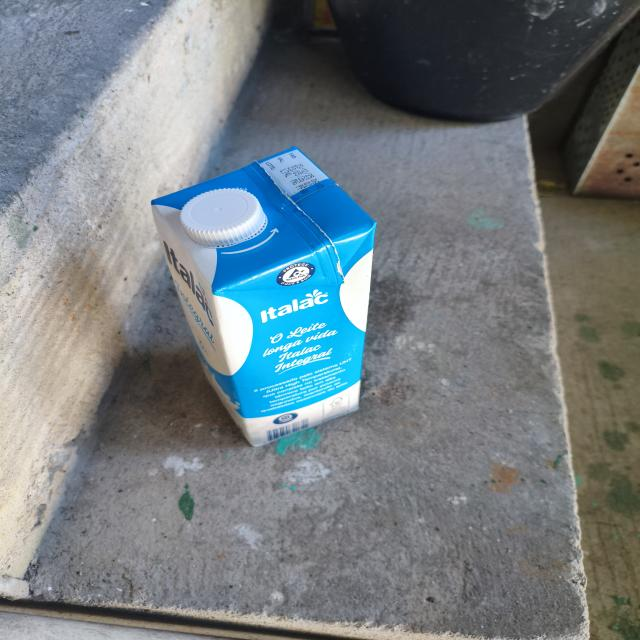Caixa de Leite: (135, 140, 387, 454)
